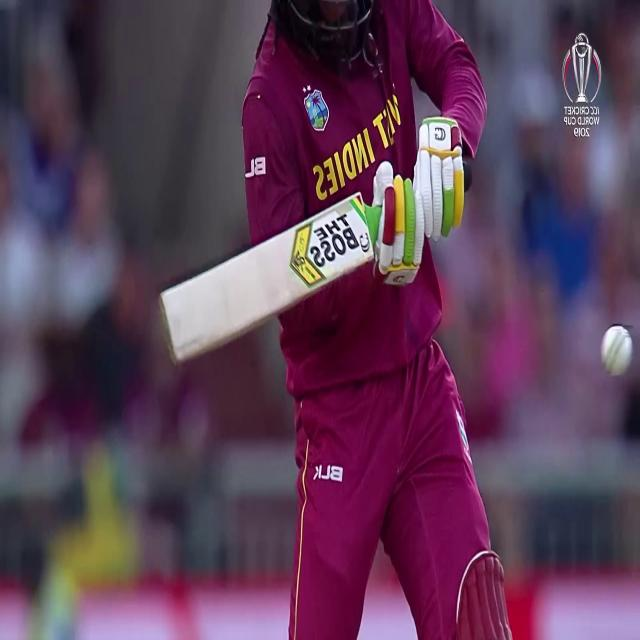ball: (597, 323, 632, 378)
